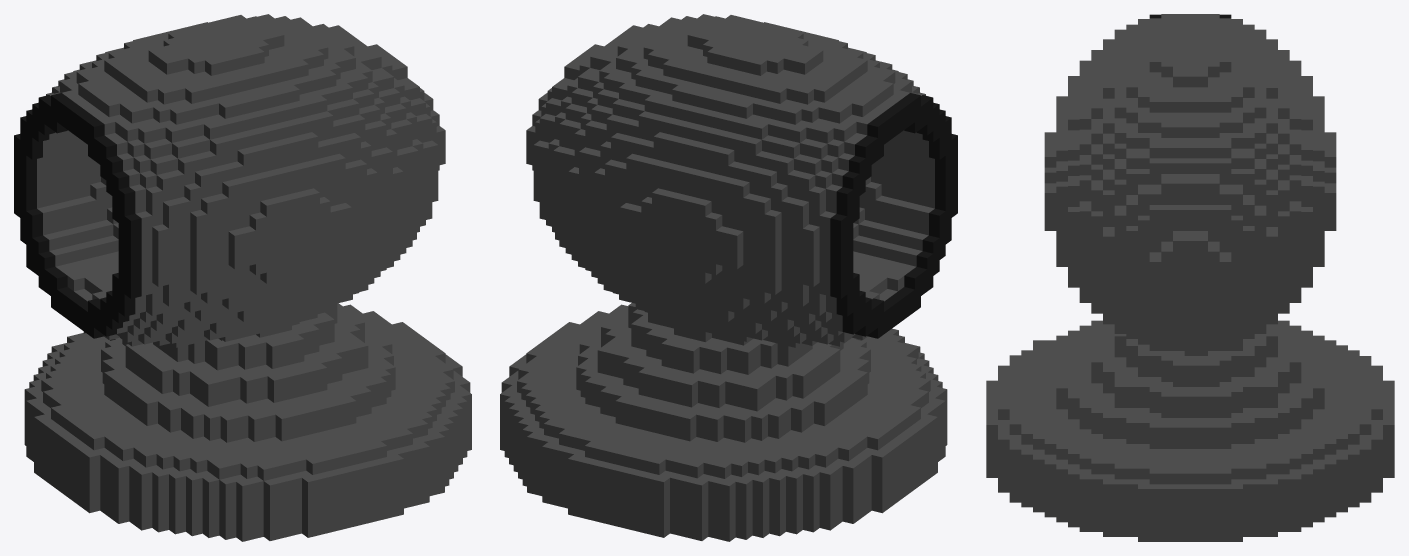
The model's file is canon.obj.
The picture shows the model from 3 angles, left to right: view 1: azimuth 30°, elevation 25°; view 2: azimuth 150°, elevation 25°; view 3: azimuth 270°, elevation 25°; orthographic projection. The views are drawn at different scales.
Size of the model in its own units: 3.5 by 3.7 by 3.5.
